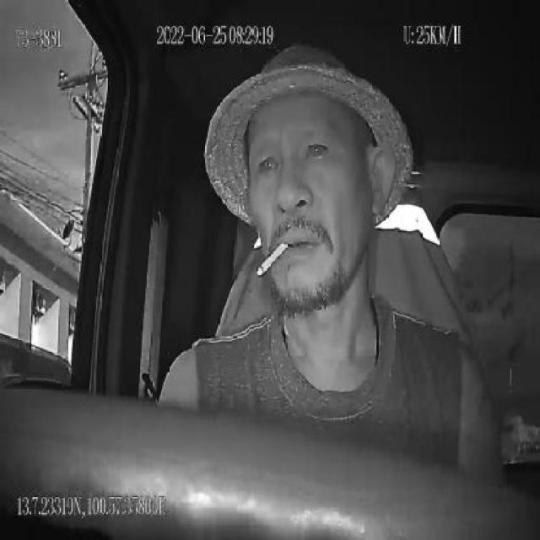smoking: (258, 240, 287, 278)
